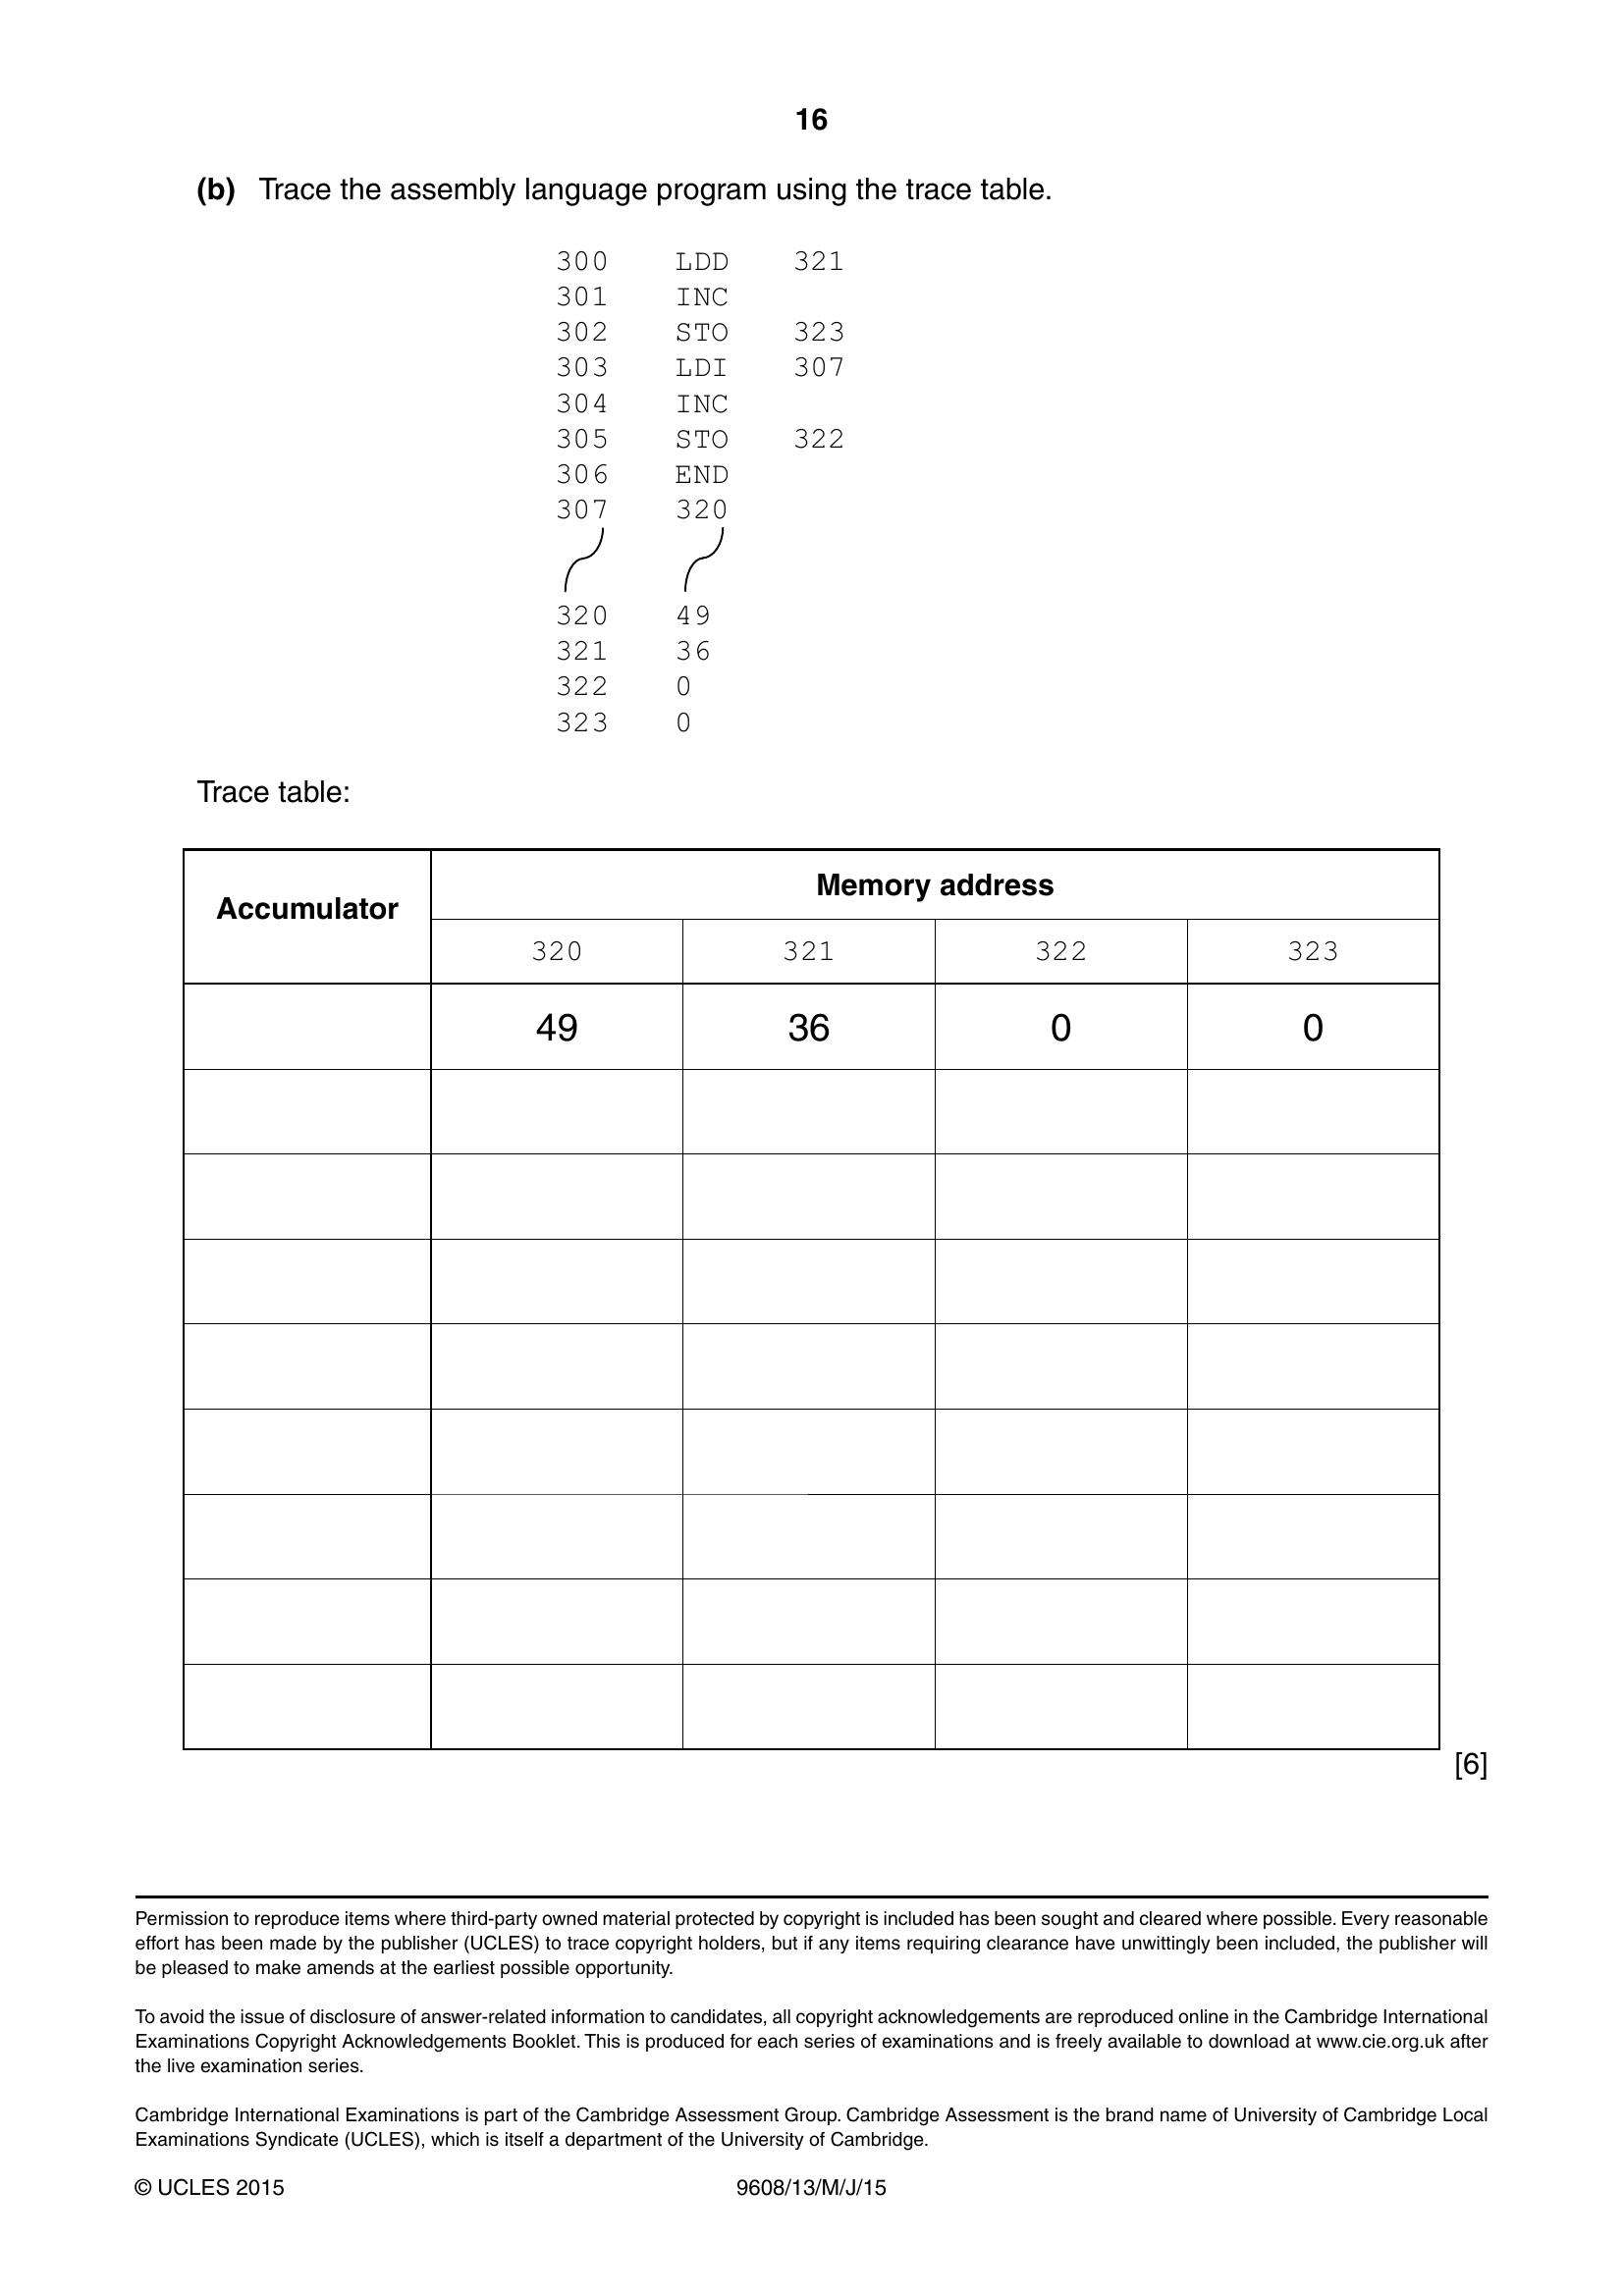continued question: (2, 160, 1620, 1823)
